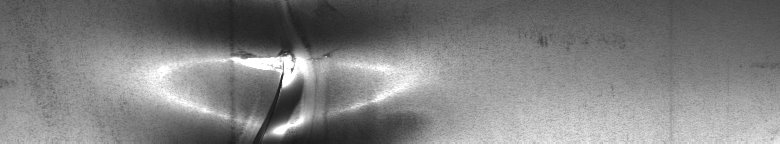ke: (201, 40, 380, 136)
